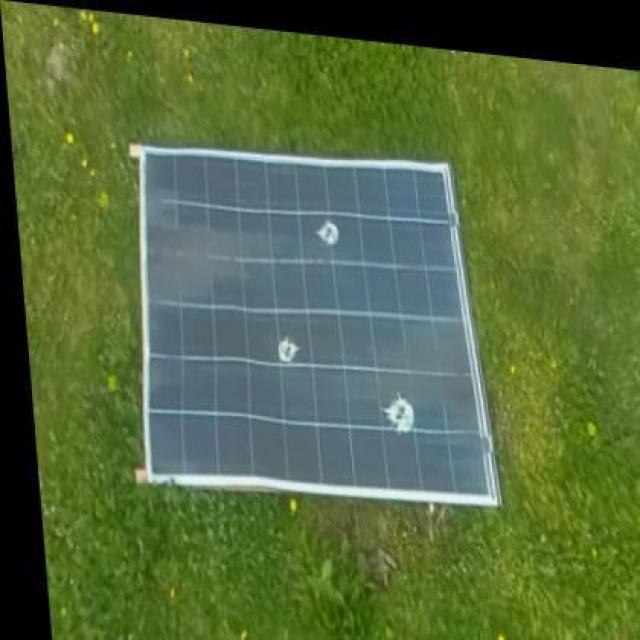soiled: (136, 142, 498, 514)
